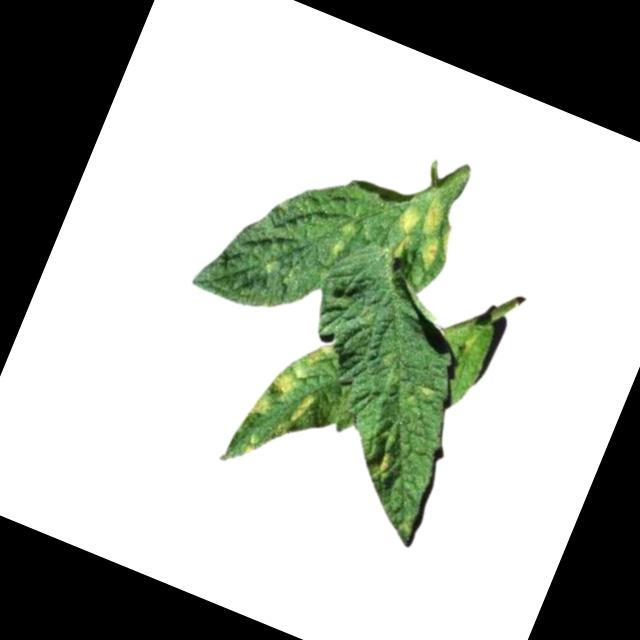Leaf_Mold: (231, 324, 339, 475), (383, 186, 465, 278), (360, 441, 403, 489)
